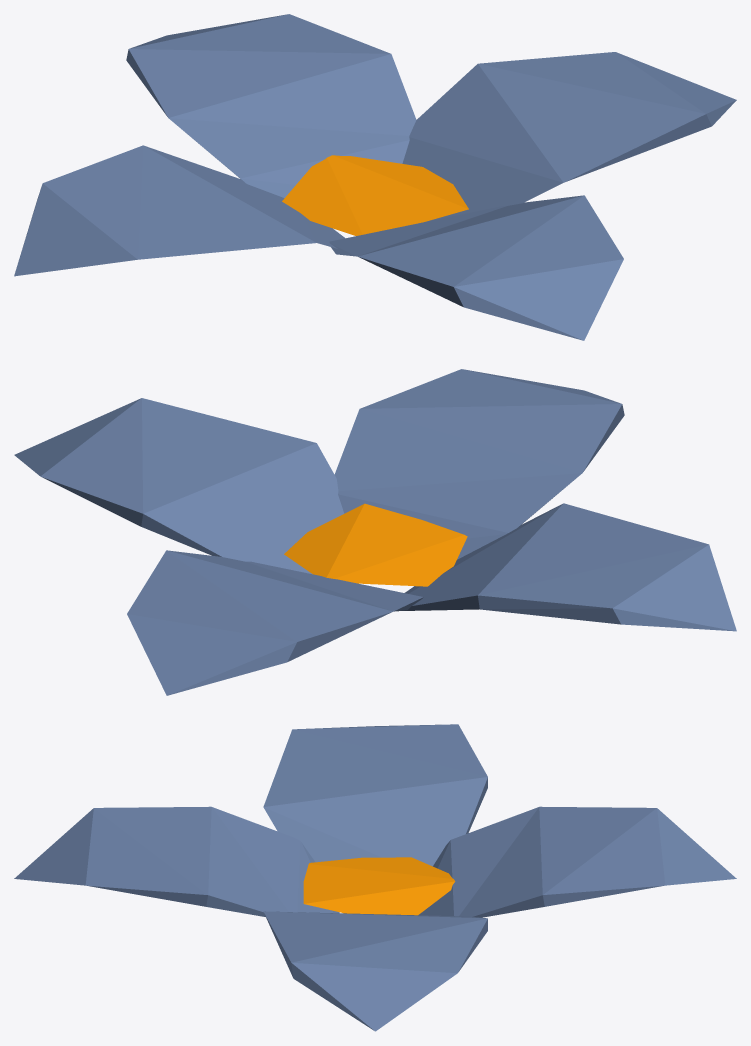
File: Summer_Flower_01.glb
3 renders of one model, top to bottom at view 1: azimuth 30°, elevation 25°; view 2: azimuth 150°, elevation 25°; view 3: azimuth 270°, elevation 25°, orthographic. The views are drawn at different scales.
Parts seen in each view (by area): view 1: Summer_Flower_01_LOD0; view 2: Summer_Flower_01_LOD0; view 3: Summer_Flower_01_LOD0.
Boxes of the visible parts, x1,y1,x2,y2 form: Summer_Flower_01_LOD0: (14,14,736,340); Summer_Flower_01_LOD0: (14,369,736,695); Summer_Flower_01_LOD0: (14,724,736,1031).
Size of what is drawn, in the model's own units: 0.3044 by 0.0309 by 0.3044.
1 material, 1 textured.
